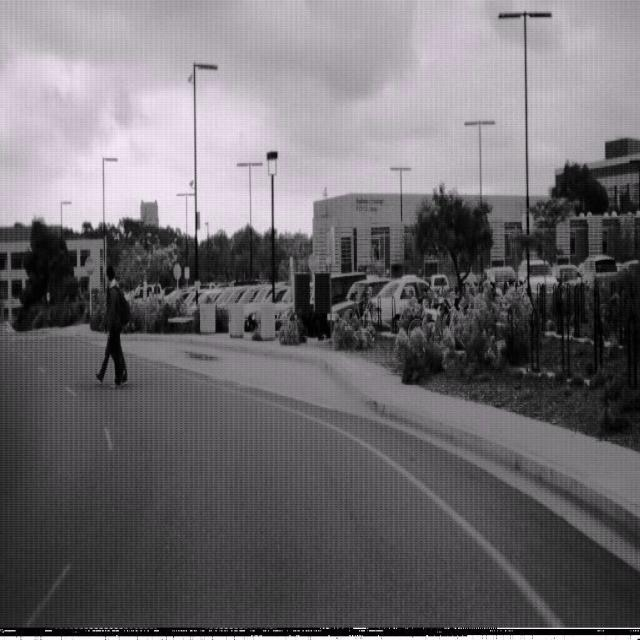stop_sign: (84, 255, 95, 276), (308, 252, 318, 272)
